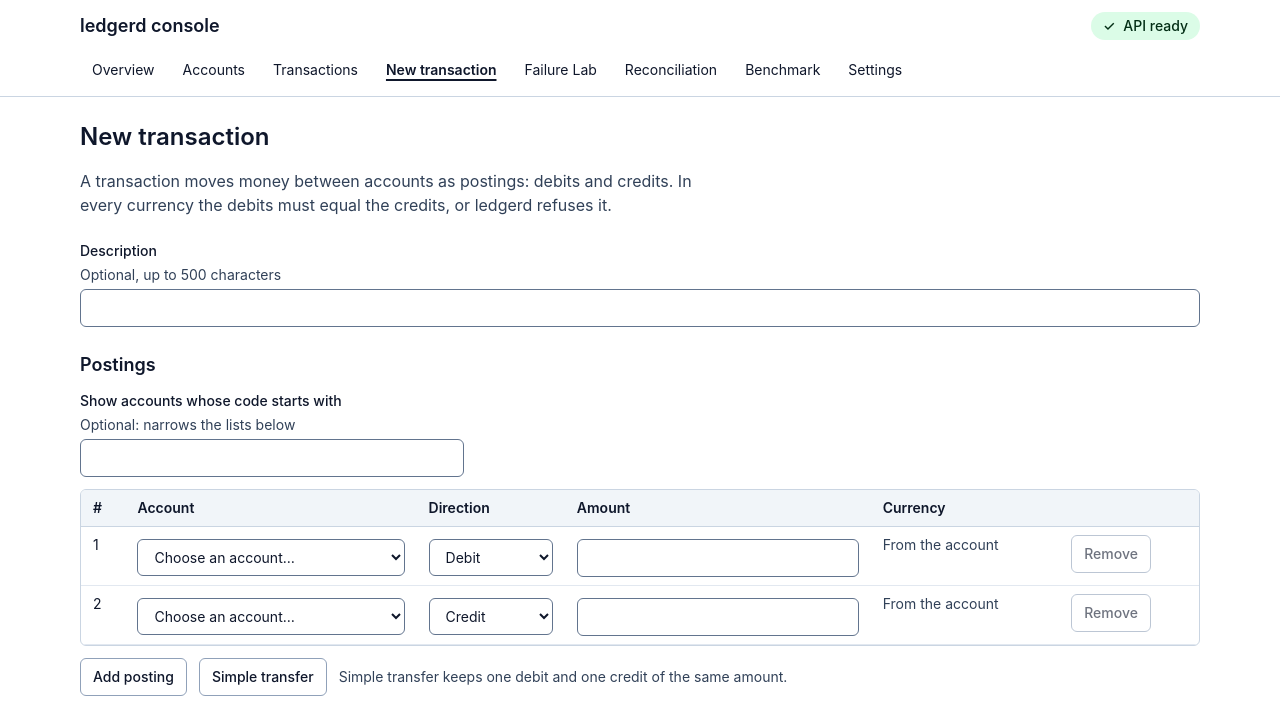
Test case: the editor › takes the currency of a posting from its account, and says how many decimals it reads
Expected: the heading "New transaction" is shown, [80,121,270,153]
Select "cash (USD)" in the 1st dropdown named "Account for posting 1" at (271, 558), box [138,539,405,576]
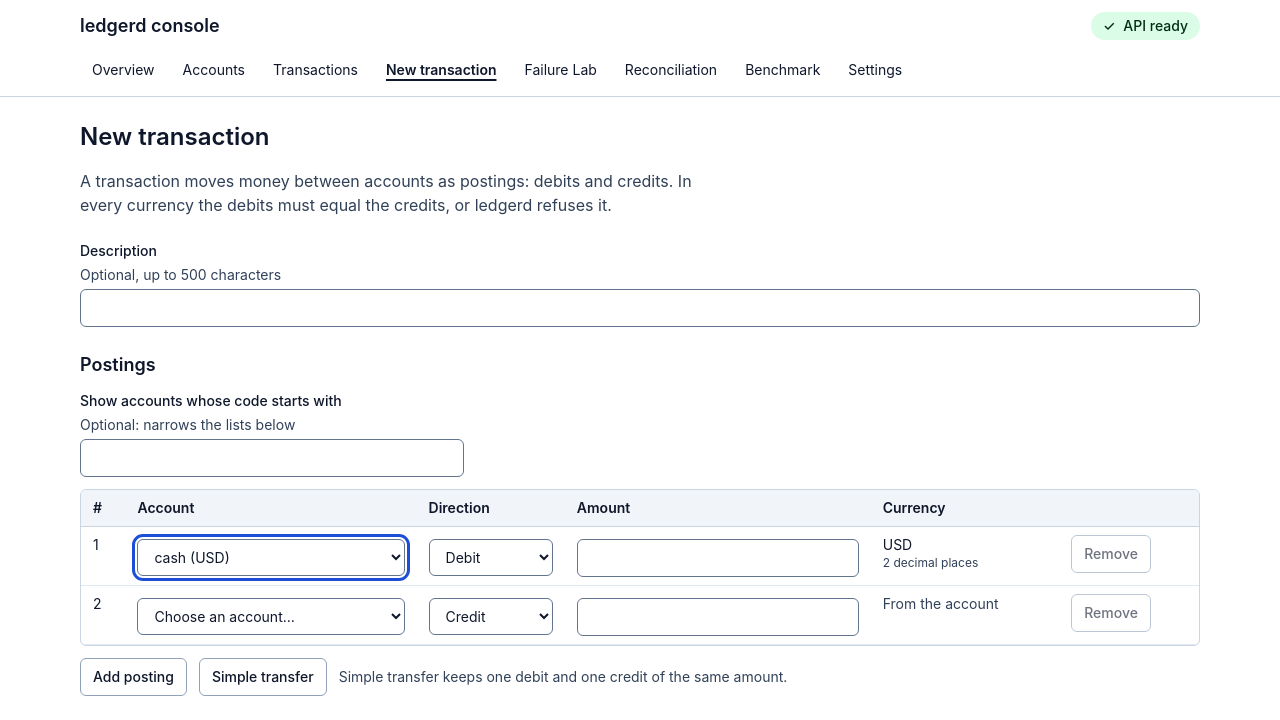
Select "yen (JPY)" in the 3rd dropdown at (271, 616), box [138,598,405,635]
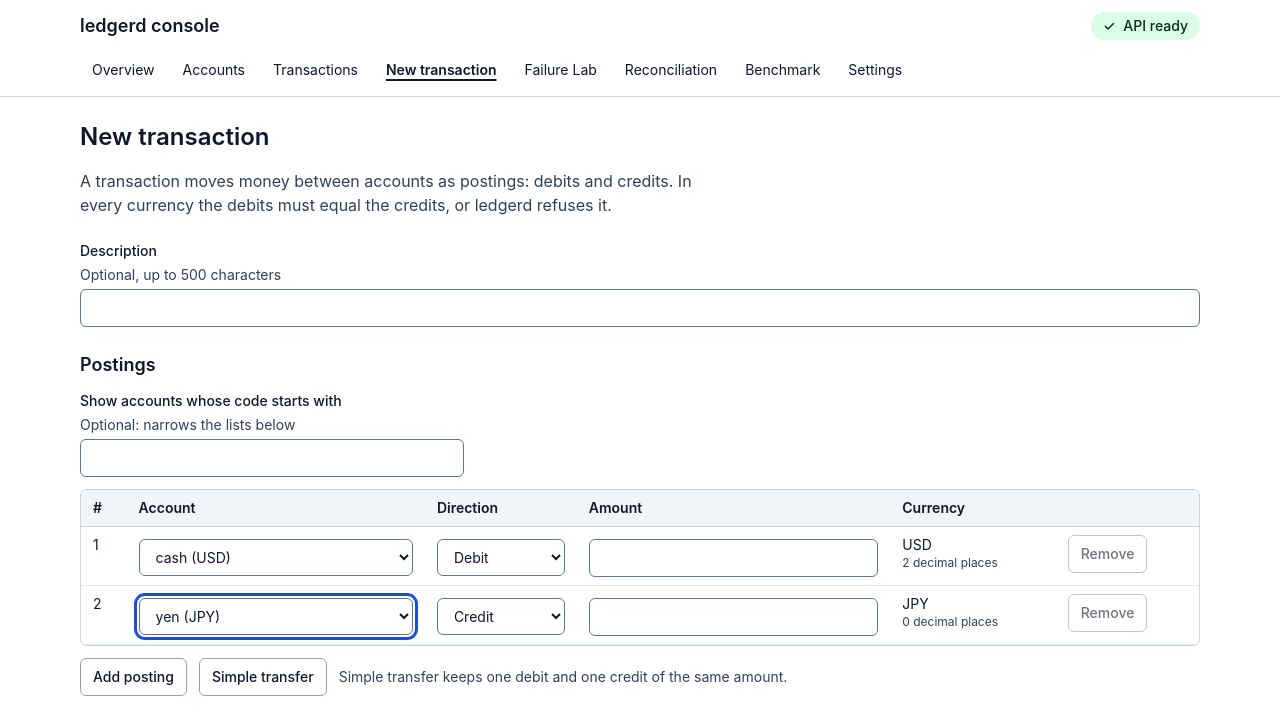
Expected: the row "1 USD 2 decimal places Remove" is shown, [81,527,1199,586]
Expected: the row "2 JPY 0 decimal places Remove" is shown, [81,586,1199,644]
